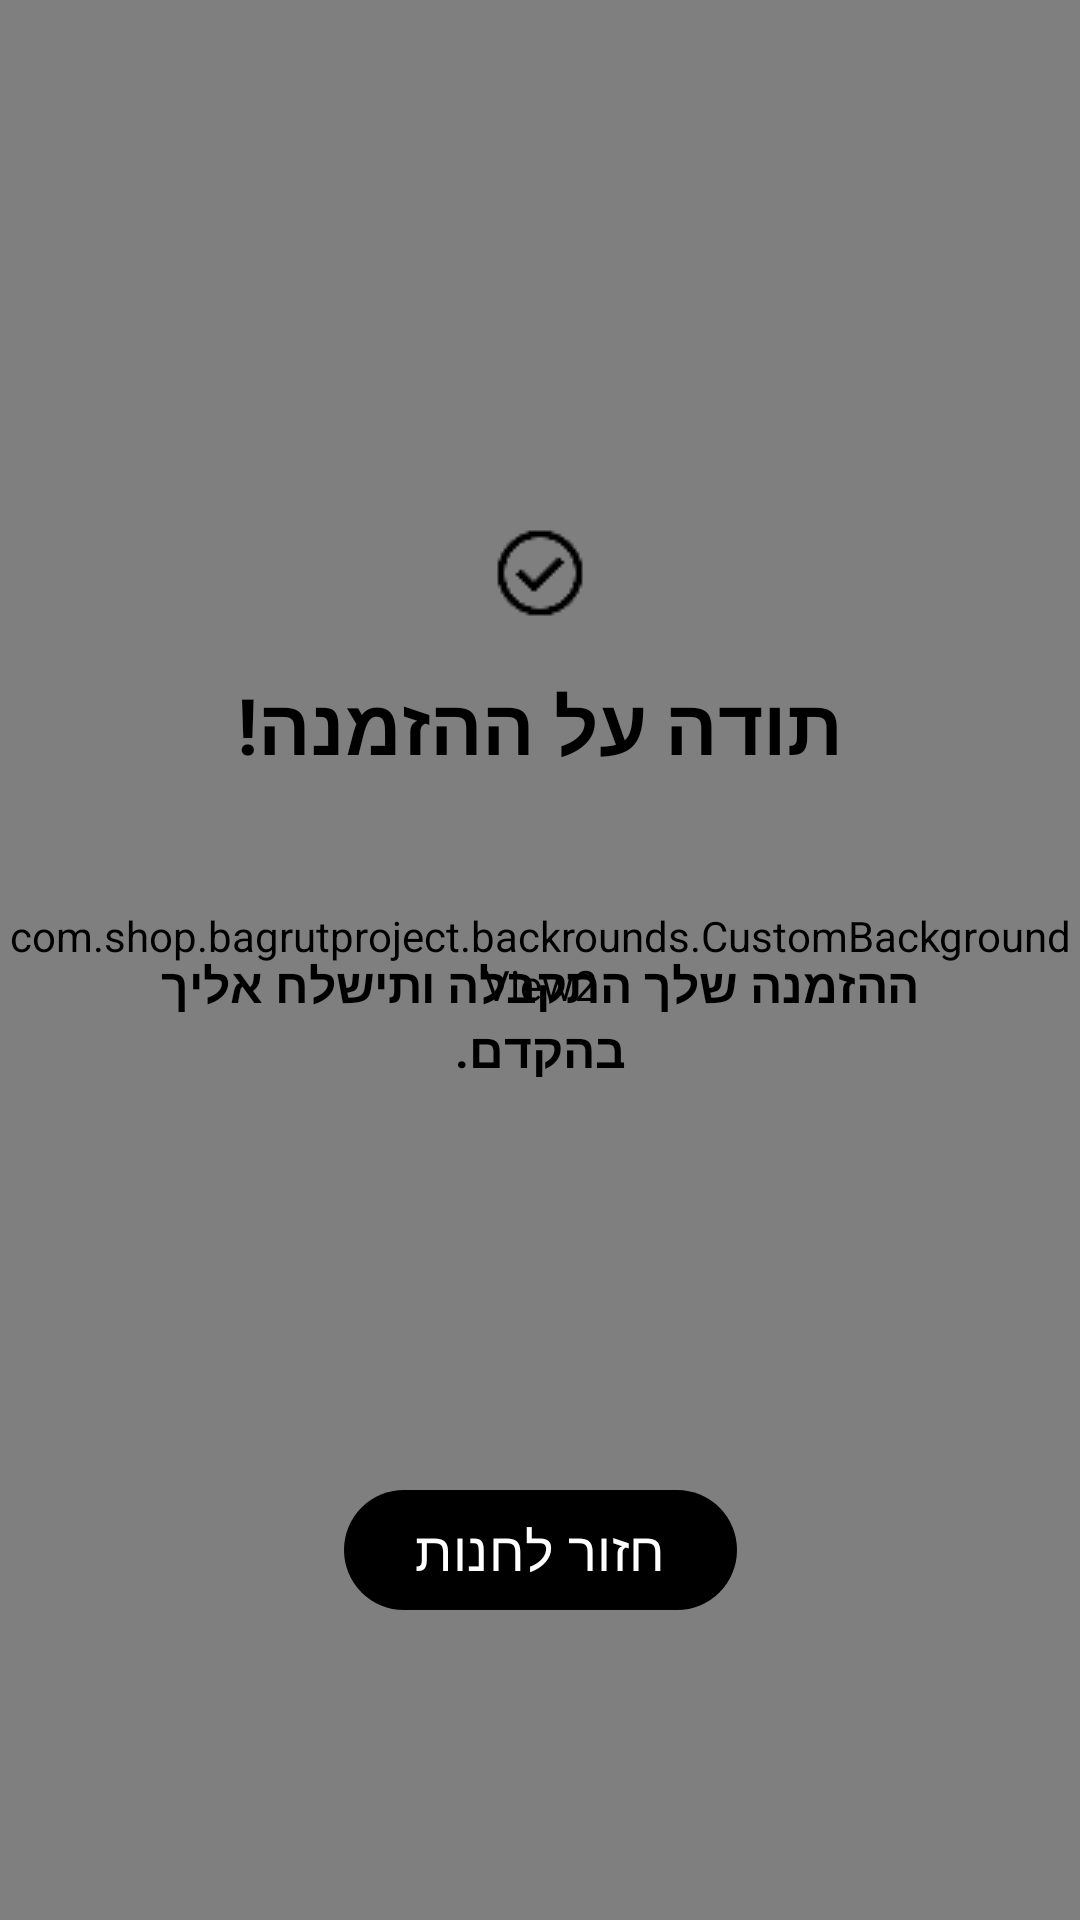

Screen size 1080*1920. Icon name, then its center in pixels as (x,y):
success: (540,573)
